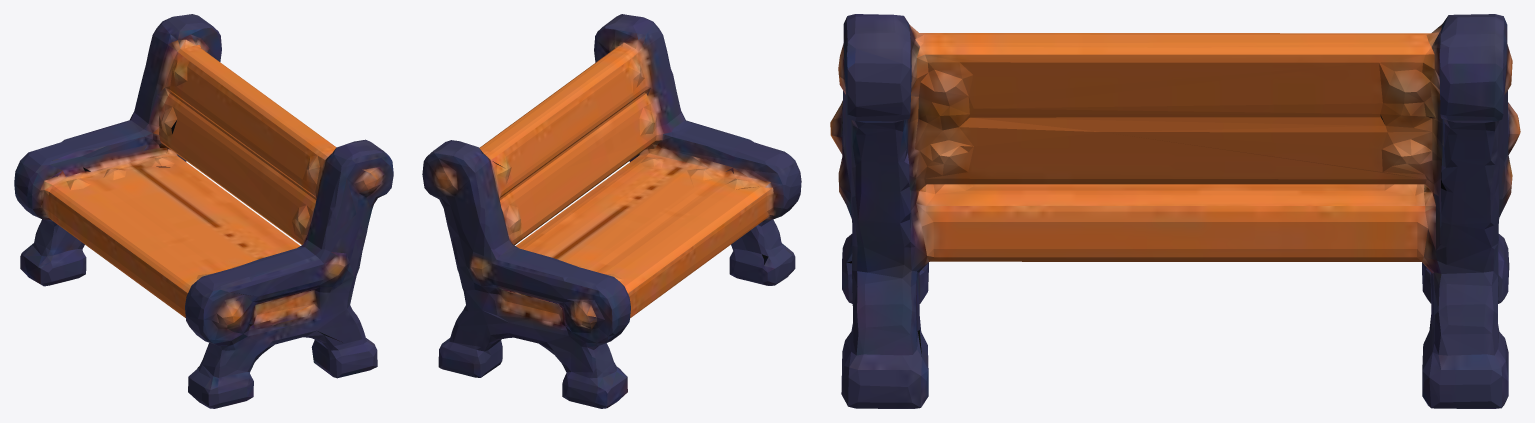
File: M-5_02_bench.glb
The picture shows the model from 3 angles, left to right: view 1: azimuth 30°, elevation 25°; view 2: azimuth 150°, elevation 25°; view 3: azimuth 270°, elevation 25°; orthographic projection. The views are drawn at different scales.
Visible parts, largest first — view 1: loA; view 2: loA; view 3: loA.
Part boxes in pixels (x1,y1,x2,y2): loA: [14, 14, 393, 408]; loA: [422, 14, 801, 408]; loA: [830, 14, 1520, 408].
Bounding box in the file's own units: 1.3 × 1.42 × 2.31.
Materials: 1 (1 with a texture image).
